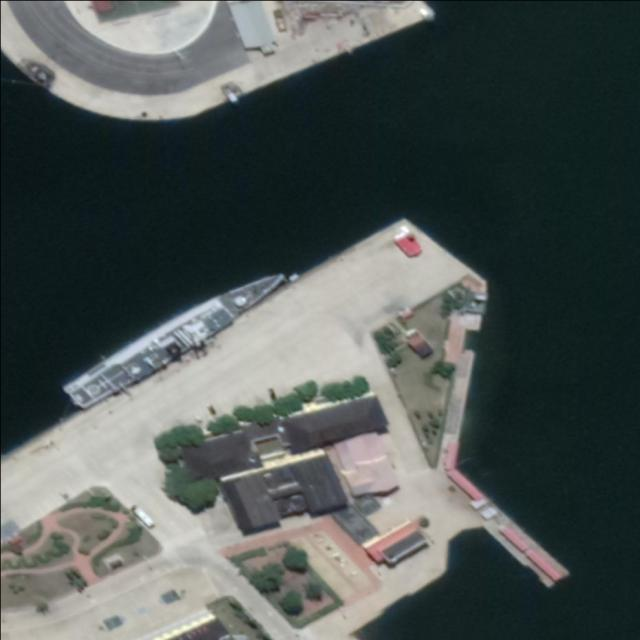Auxiliary Ships: (59, 261, 293, 414)
